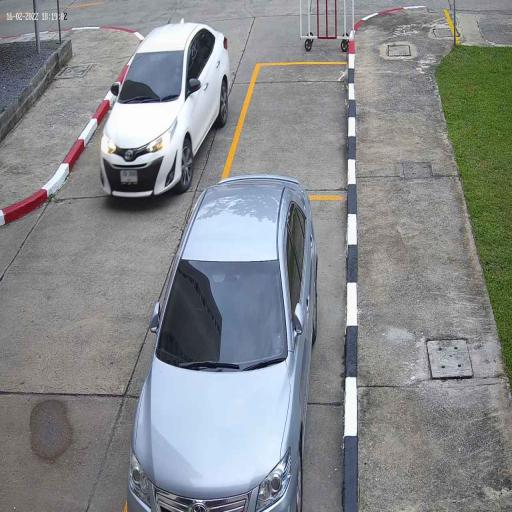car: (126, 172, 319, 512), (98, 20, 232, 202)
